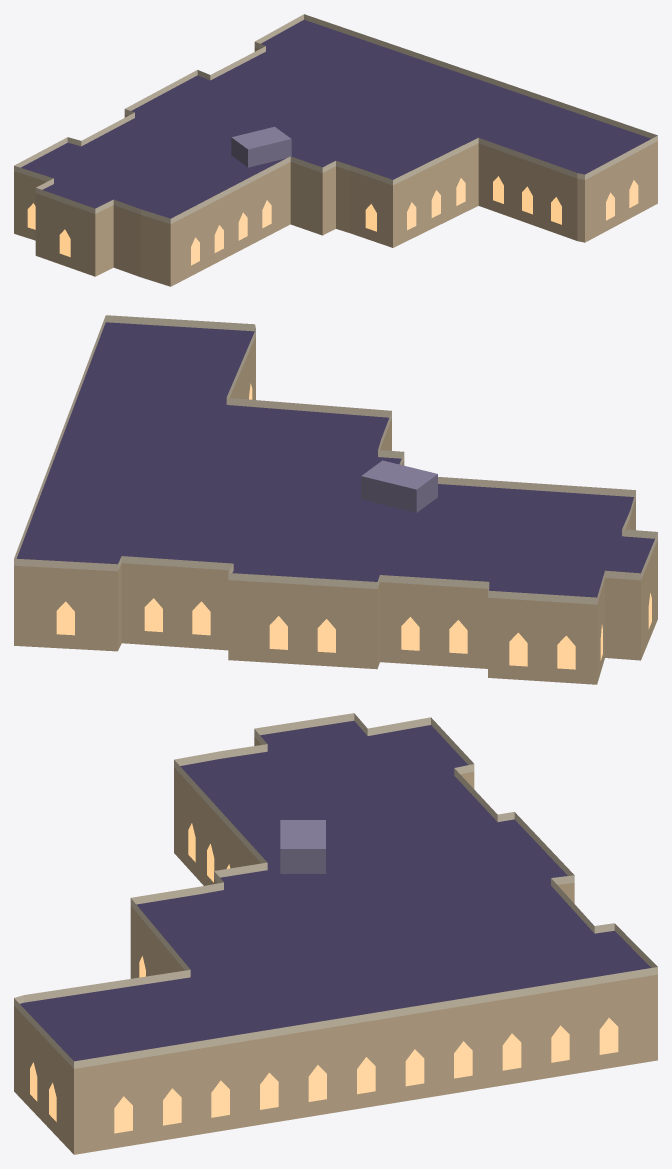
Rendered from b-101-health-sciences-addition.glb.
3 renders of one model, top to bottom at view 1: azimuth 30°, elevation 25°; view 2: azimuth 150°, elevation 25°; view 3: azimuth 270°, elevation 25°, orthographic. The views are drawn at different scales.
Parts seen in each view (by area): view 1: campus/b-101-health-sciences-addition-0; view 2: campus/b-101-health-sciences-addition-0; view 3: campus/b-101-health-sciences-addition-0.
Part boxes in pixels (<box>): campus/b-101-health-sciences-addition-0: <box>14,14,657,286</box>; campus/b-101-health-sciences-addition-0: <box>14,315,657,684</box>; campus/b-101-health-sciences-addition-0: <box>14,713,657,1154</box>.
Bounding box in the file's own units: 53.93 × 8 × 42.13.
